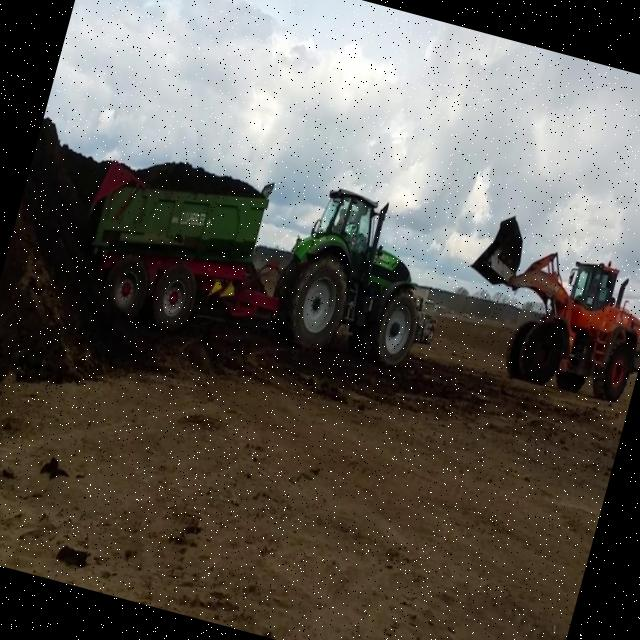Dump Truck: (63, 124, 464, 400)
Loader: (441, 201, 640, 410)
